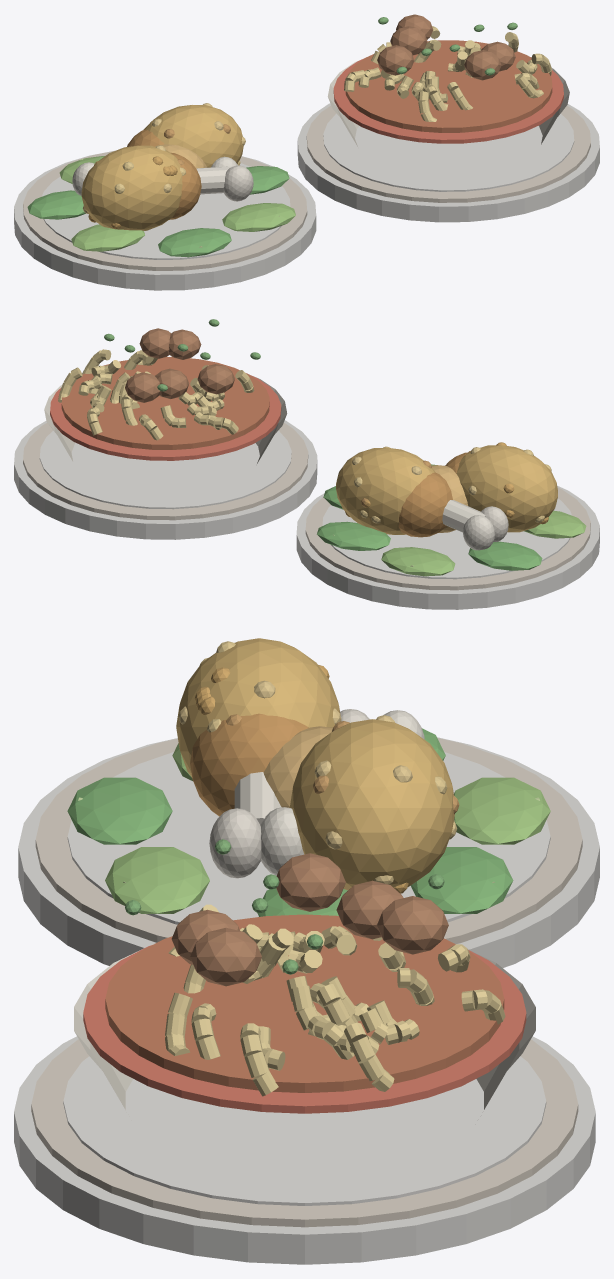
The model's file is combo_ga_mi.glb.
The picture shows the model from 3 angles, top to bottom: view 1: azimuth 30°, elevation 25°; view 2: azimuth 150°, elevation 25°; view 3: azimuth 270°, elevation 25°; orthographic projection. The views are drawn at different scales.
Parts seen in each view (by area): view 1: combo_node_0076, combo_node_0079, combo_node_0000, combo_node_0074, combo_node_0017, combo_node_0002, combo_node_0001, combo_node_0075, combo_node_0045, combo_node_0078, combo_node_0005, combo_node_0007 (+16 smaller); view 2: combo_node_0076, combo_node_0079, combo_node_0000, combo_node_0074, combo_node_0017, combo_node_0075, combo_node_0045, combo_node_0001, combo_node_0002, combo_node_0078, combo_node_0046, combo_node_0013 (+13 smaller); view 3: combo_node_0076, combo_node_0079, combo_node_0074, combo_node_0045, combo_node_0075, combo_node_0001, combo_node_0000, combo_node_0002, combo_node_0078, combo_node_0017, combo_node_0018, combo_node_0007 (+14 smaller).
Boxes of the visible parts, <box> form: combo_node_0076: <box>323,113,574,191</box>; combo_node_0079: <box>345,40,552,132</box>; combo_node_0000: <box>14,150,316,290</box>; combo_node_0074: <box>297,103,599,222</box>; combo_node_0017: <box>81,145,182,230</box>; combo_node_0002: <box>42,163,290,259</box>; combo_node_0001: <box>23,151,307,270</box>; combo_node_0075: <box>306,105,590,202</box>; combo_node_0045: <box>143,105,243,167</box>; combo_node_0078: <box>333,57,563,143</box>; combo_node_0005: <box>222,203,295,231</box>; combo_node_0007: <box>158,228,231,257</box>; combo_node_0076: <box>39,430,291,509</box>; combo_node_0079: <box>61,357,269,449</box>; combo_node_0000: <box>296,486,599,609</box>; combo_node_0074: <box>14,420,317,539</box>; combo_node_0017: <box>456,445,557,532</box>; combo_node_0075: <box>23,422,308,520</box>; combo_node_0045: <box>336,447,435,534</box>; combo_node_0001: <box>305,487,590,590</box>; combo_node_0002: <box>322,498,571,579</box>; combo_node_0078: <box>50,374,281,460</box>; combo_node_0046: <box>398,472,452,537</box>; combo_node_0013: <box>381,547,455,576</box>; combo_node_0076: <box>63,1056,546,1205</box>; combo_node_0079: <box>105,914,504,1092</box>; combo_node_0074: <box>14,1036,595,1264</box>; combo_node_0045: <box>289,719,454,890</box>; combo_node_0075: <box>31,1039,578,1227</box>; combo_node_0001: <box>35,738,582,943</box>; combo_node_0000: <box>18,737,599,967</box>; combo_node_0002: <box>67,752,550,924</box>; combo_node_0078: <box>83,945,526,1113</box>; combo_node_0017: <box>176,638,341,777</box>; combo_node_0018: <box>190,713,308,816</box>; combo_node_0007: <box>67,777,172,844</box>.
Bounding box in the file's own units: 2.84 × 0.6143 × 1.38.
